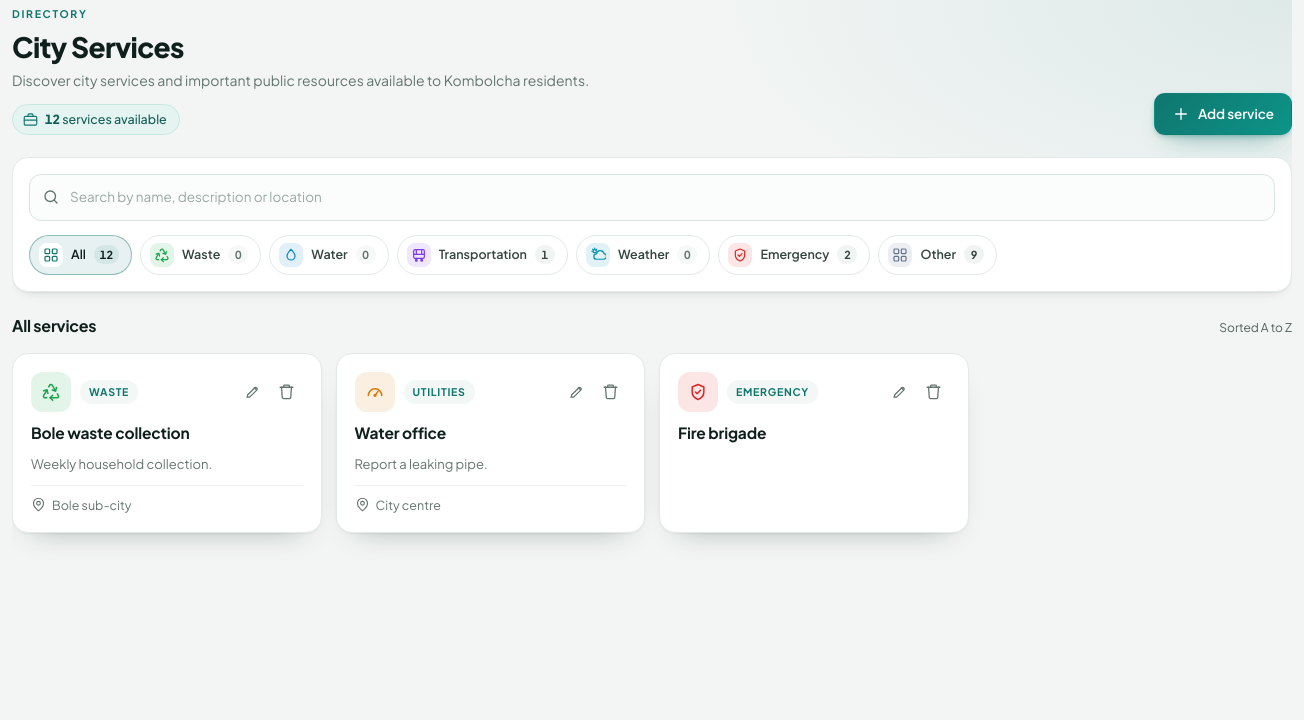
Test: Services administrator permissions › deletes a service through the existing API when confirmed
Check: the heading "Fire brigade" is shown, box top-left (678, 423), bottom-right (766, 442)
Click the button named "delete fire brigade": (934, 392) top-left (918, 376), bottom-right (950, 408)
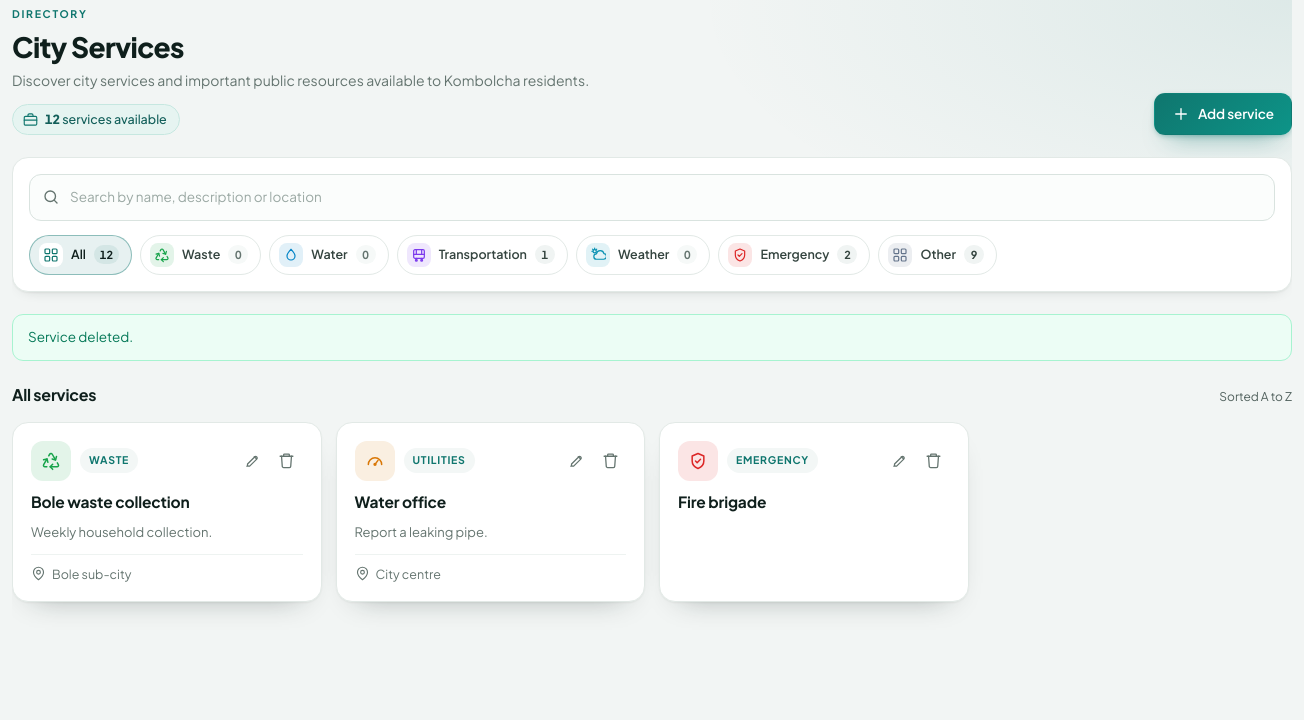
Check: the text "Service deleted." is shown, box top-left (12, 314), bottom-right (1292, 361)
